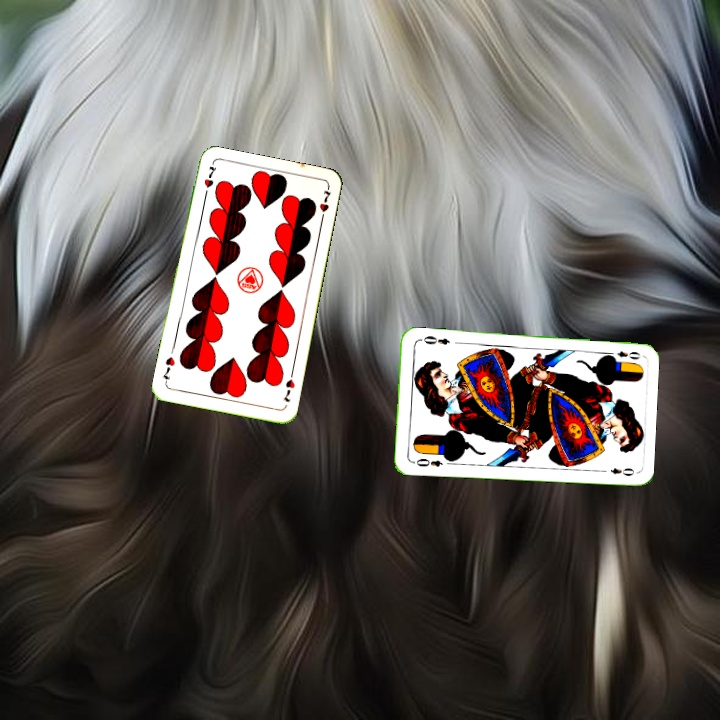EO: (412, 455, 445, 469), (613, 347, 643, 361)
H7: (200, 160, 217, 201), (279, 375, 297, 405)
